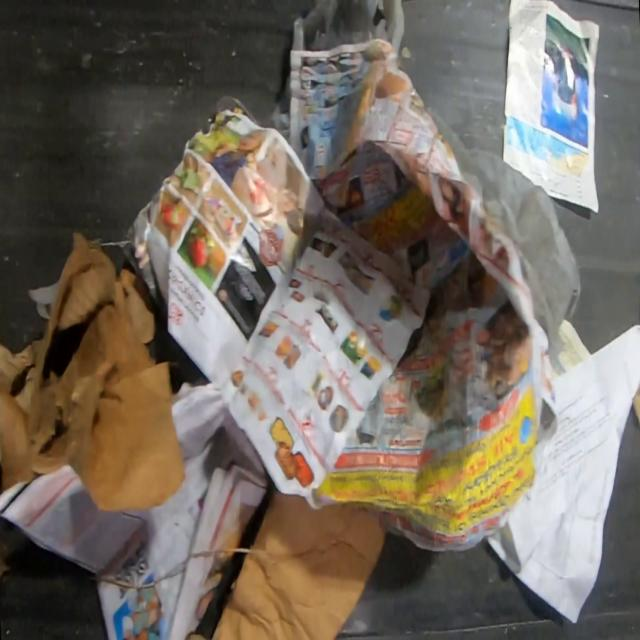cardboard: (0, 231, 184, 511), (213, 486, 387, 638)
soft_plastic: (430, 109, 580, 371), (291, 0, 407, 54)
